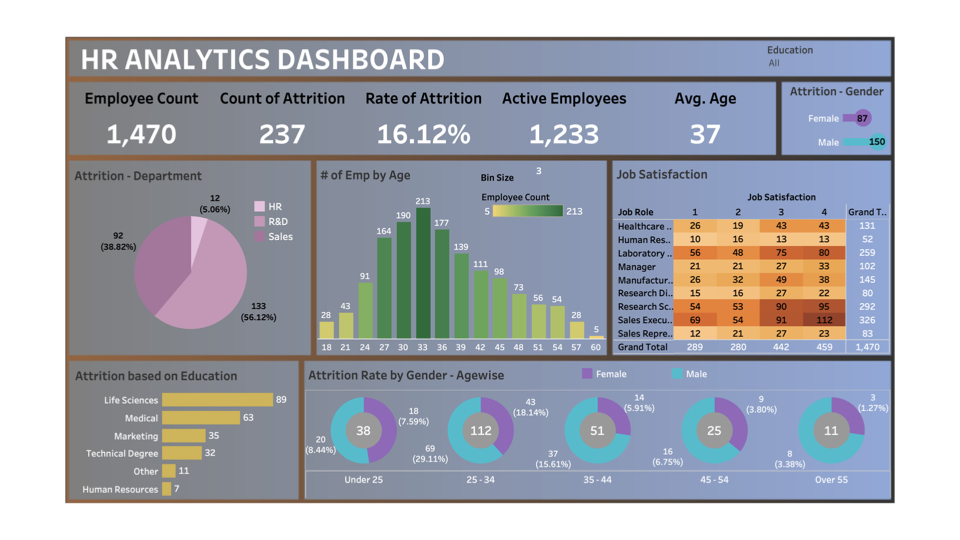

This screenshot's page, from the dashboard's own definition file:
{"tool":"tableau","page":{"name":"HR Analytics","canvas":[1130,650],"ordinal":0},"visuals":[{"type":"image","param":"/Users/venkat/Downloads/HR background.pptx.png","box":[8,8,1114,634]},{"type":"text","box":[29,20,642,43]},{"type":"filter","title":"Attrition - Department","param":"[federated.0pr4z6h0loj9hk11svrqz0ubnsyd].[none:Education:nk]","box":[948,21,160,43]},{"type":"worksheet","title":"Attrition - Gender","mark":"Automatic","rows":["Gender"],"cols":["Calculation_3185663446965231616","Calculation_3185663446965231616"],"box":[969,70,141,100]},{"type":"worksheet","title":"Key Performance Indicators","mark":"Automatic","box":[20,75,940,95]},{"type":"worksheet","title":"Job Satisfaction","mark":"Square","rows":["Job Role"],"cols":["Job Satisfaction"],"box":[743,180,369,257]},{"type":"worksheet","title":"# of Emp by Age","mark":"Automatic","rows":["Employee Count"],"cols":["Age (bin)"],"box":[348,181,385,256]},{"type":"worksheet","title":"Attrition - Department","mark":"Pie","box":[20,182,318,256]},{"type":"parameter","param":"[Parameters].[Parameter 1]","box":[566,184,165,35]},{"type":"legend","title":"# of Emp by Age","param":"[federated.0pr4z6h0loj9hk11svrqz0ubnsyd].[sum:Employee Count:qk]","box":[567,215,140,45]},{"type":"legend","title":"Attrition - Department","param":"[federated.0pr4z6h0loj9hk11svrqz0ubnsyd].[none:Department:nk]","box":[261,230,79,78]},{"type":"worksheet","title":"Attrition Rate by Gender - Agewise","mark":"Pie","rows":["Calculation_3185663447384731653","Calculation_3185663447384731653"],"cols":["CF_age band"],"box":[332,448,781,182]},{"type":"worksheet","title":"Attrition based on Education","mark":"Automatic","rows":["Education Field"],"cols":["Calculation_3185663446965231616"],"box":[21,449,299,180]},{"type":"legend","title":"Attrition Rate by Gender - Agewise","param":"[federated.0pr4z6h0loj9hk11svrqz0ubnsyd].[none:Gender:nk]","box":[698,453,277,26]}]}

Visuals, with their boxes in screenshot pixels (x1, y1, x2, y2), scaled from the page's 1130x650 canvas onto the 960x540 screenshot:
image: <bbox>7, 7, 953, 533</bbox>
text: <bbox>25, 17, 570, 52</bbox>
"Attrition - Department" filter: <bbox>805, 17, 941, 53</bbox>
"Attrition - Gender" worksheet: <bbox>823, 58, 943, 141</bbox>
"Key Performance Indicators" worksheet: <bbox>17, 62, 816, 141</bbox>
"Job Satisfaction" worksheet (Square marks): <bbox>631, 150, 945, 363</bbox>
"# of Emp by Age" worksheet: <bbox>296, 150, 623, 363</bbox>
"Attrition - Department" worksheet (Pie marks): <bbox>17, 151, 287, 364</bbox>
parameter: <bbox>481, 153, 621, 182</bbox>
"# of Emp by Age" legend: <bbox>482, 179, 601, 216</bbox>
"Attrition - Department" legend: <bbox>222, 191, 289, 256</bbox>
"Attrition Rate by Gender - Agewise" worksheet (Pie marks): <bbox>282, 372, 946, 523</bbox>
"Attrition based on Education" worksheet: <bbox>18, 373, 272, 523</bbox>
"Attrition Rate by Gender - Agewise" legend: <bbox>593, 376, 828, 398</bbox>
